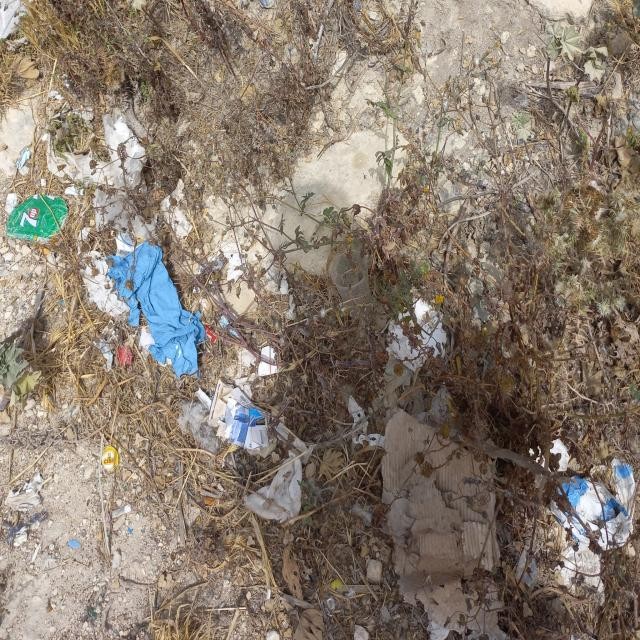Bottle cap: (103, 445, 119, 470)
Can: (6, 194, 68, 244)
Carton: (349, 380, 513, 640), (204, 376, 274, 452)
Cigarette: (111, 504, 132, 519)
Cup: (328, 249, 373, 317)
Other litter: (41, 74, 158, 375), (243, 449, 303, 525), (2, 471, 47, 552), (202, 312, 241, 343), (260, 0, 276, 9), (355, 1, 361, 9)
Other plastic: (105, 241, 207, 379), (15, 146, 30, 170), (66, 540, 82, 549), (128, 528, 134, 534)
Paper: (516, 455, 637, 606)
Styrofoam piece: (378, 297, 448, 376), (530, 436, 570, 473)
